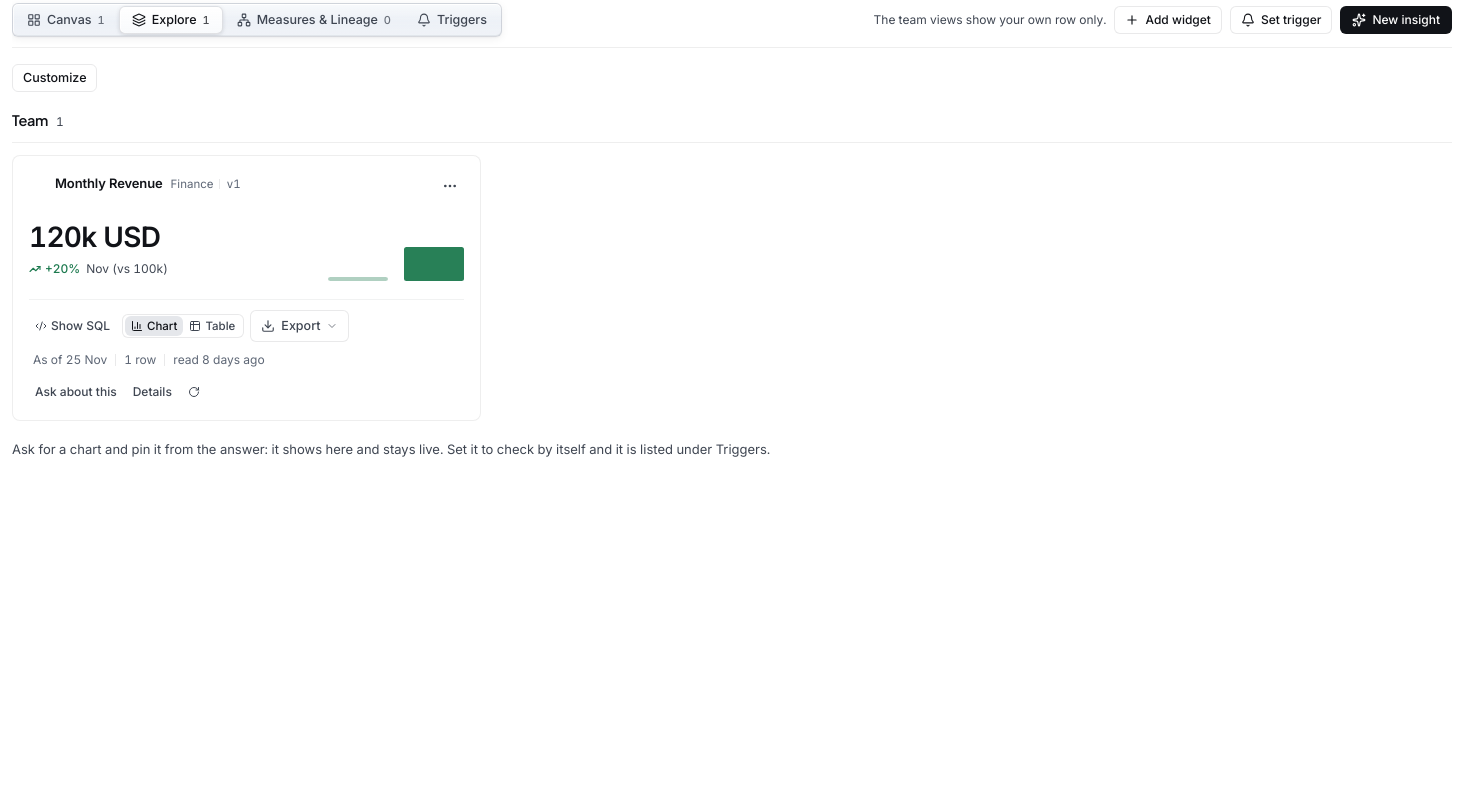
Scenario: Bento grid resize, KPI cards, SQL inspector, and Benchmarks tab › renders Executive KPI summary for KPI tiles and opens SQL inspector from the header SQL button
Expected: the element with test id "kpi-bento-summary" is shown, [29, 213, 464, 287]
Expected: the element with test id "verified-pill-kpi_rev" shows "Finance", [171, 177, 214, 191]
Click the button with test id "sql-trigger-kpi_rev" at (72, 326), box [29, 314, 116, 338]
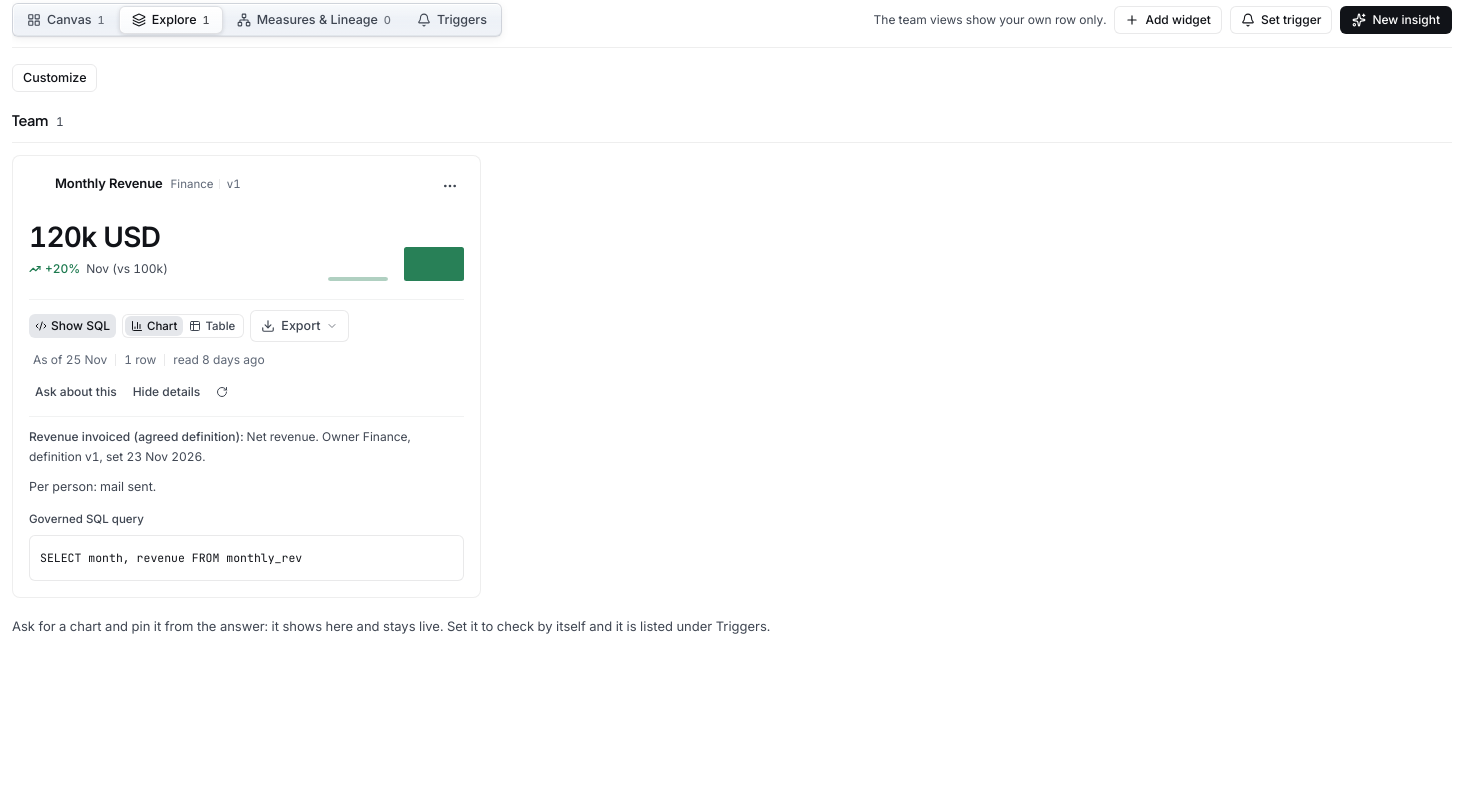
Expected: the text "SELECT month, revenue FROM monthly_rev" is shown, [29, 535, 464, 581]
